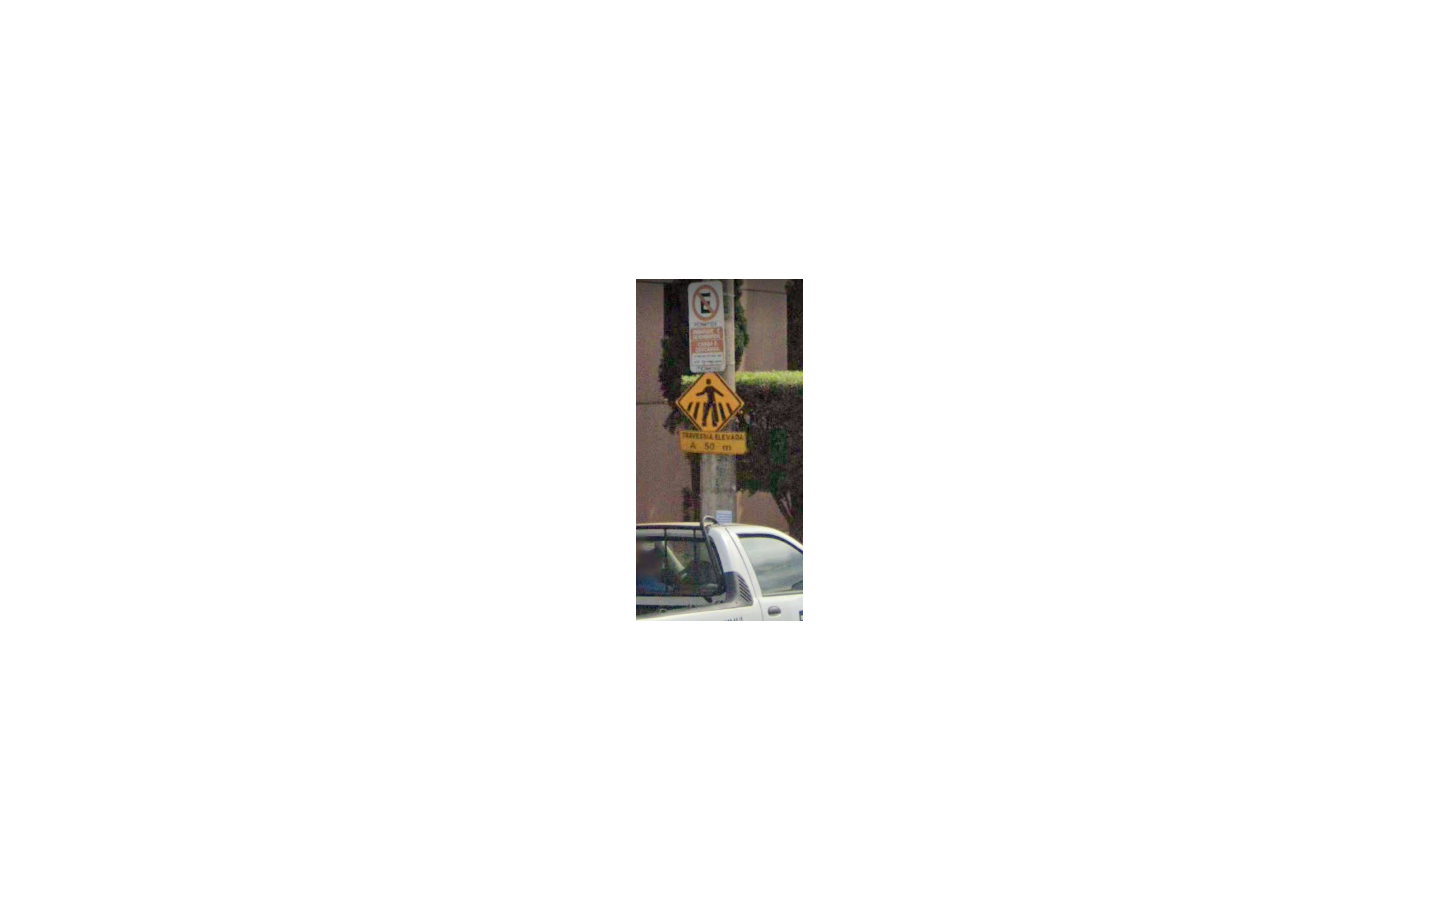t50m: (676, 371, 747, 454)
